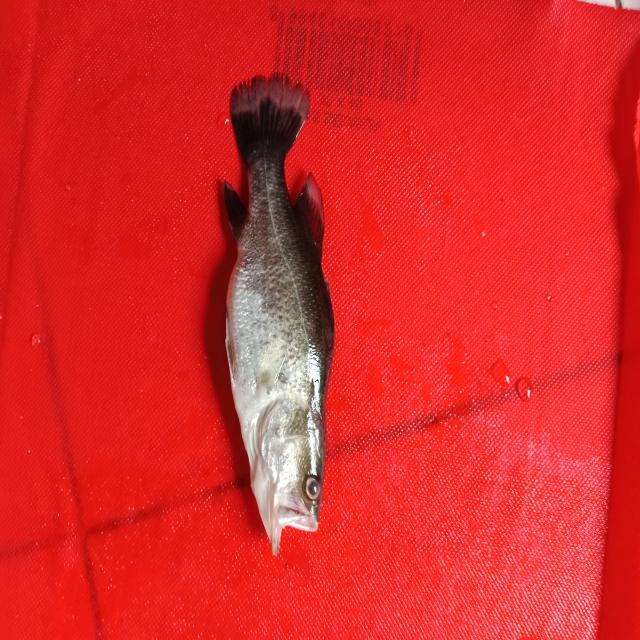ikan: (194, 74, 364, 563)
